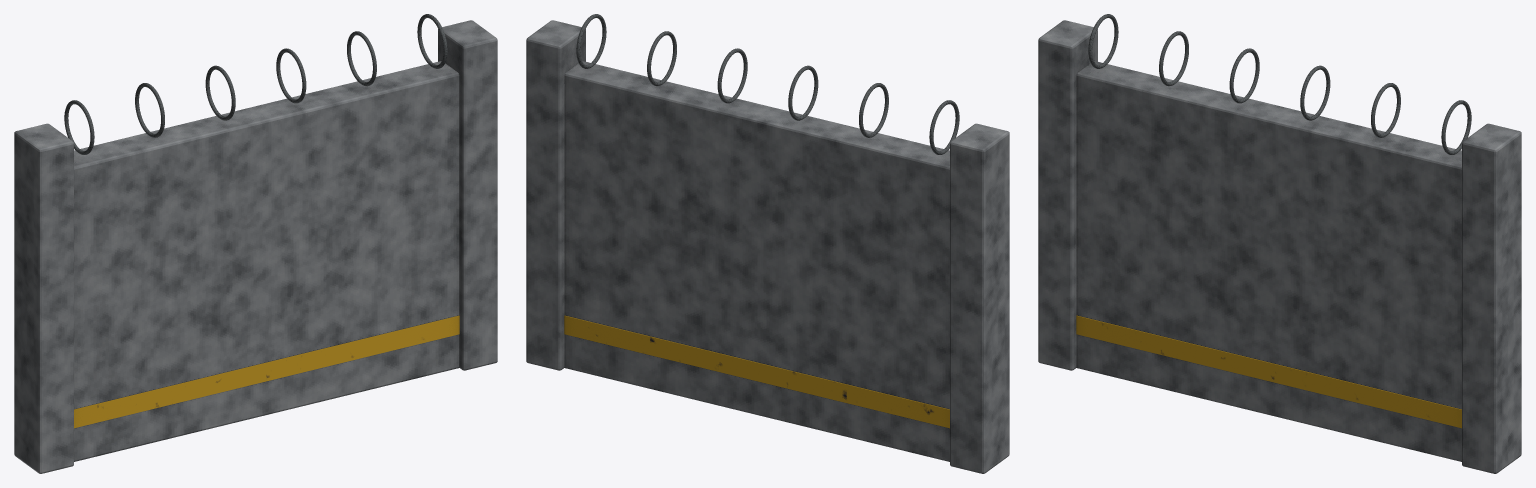
The model's file is city_wall.glb.
The picture shows the model from 3 angles, left to right: view 1: azimuth 30°, elevation 25°; view 2: azimuth 150°, elevation 25°; view 3: azimuth 330°, elevation 25°; orthographic projection.
Visible parts, largest first — view 1: city_wall; view 2: city_wall; view 3: city_wall.
Boxes of the visible parts, box(x1,y1,x2,y2) form: city_wall: box(14, 14, 497, 473); city_wall: box(526, 14, 1009, 473); city_wall: box(1038, 14, 1521, 473).
Size of the model in its own units: 6.5 by 4.75 by 0.69.
Materials: 3 (3 with a texture image).
